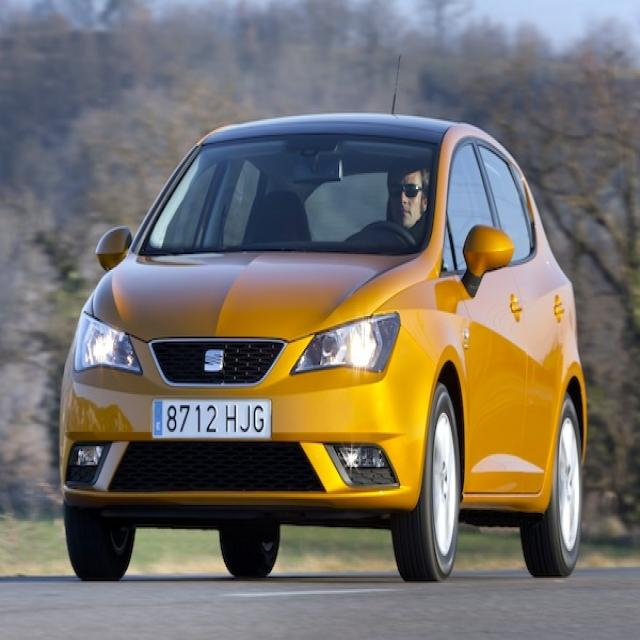License-Plate: (152, 395, 271, 439)
